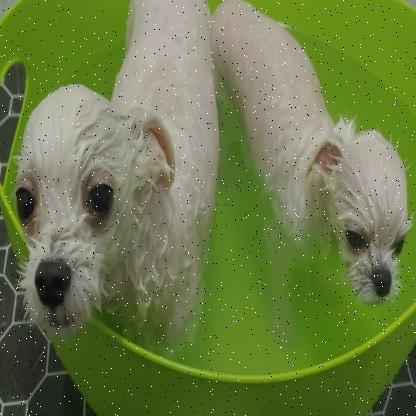dog: (11, 31, 195, 364), (260, 19, 413, 334)
